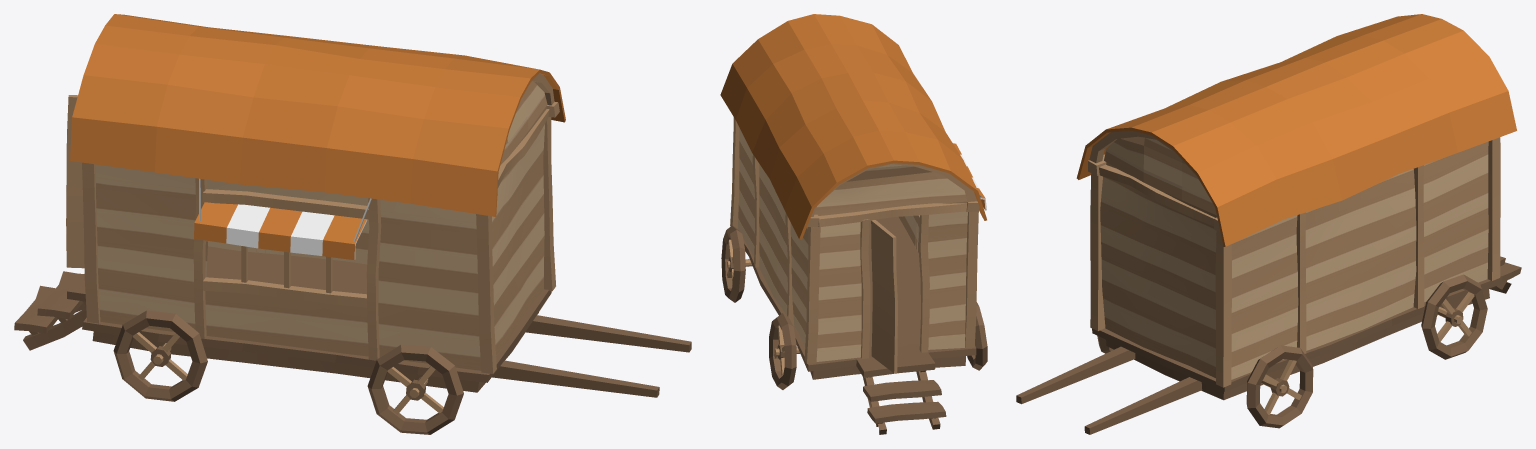
The model's file is caravana naranja.fbx.
3 renders of one model, left to right at view 1: azimuth 30°, elevation 25°; view 2: azimuth 150°, elevation 25°; view 3: azimuth 270°, elevation 25°, orthographic. The views are drawn at different scales.
Parts seen in each view (by area): view 1: caravan2; view 2: caravan2; view 3: caravan2.
Boxes of the visible parts, x1,y1,x2,y2 form: caravan2: [14, 14, 691, 434]; caravan2: [720, 14, 987, 434]; caravan2: [1016, 14, 1521, 434].
Bounding box in the file's own units: 518 × 336 × 540.
Materials: 1 (1 with a texture image).
